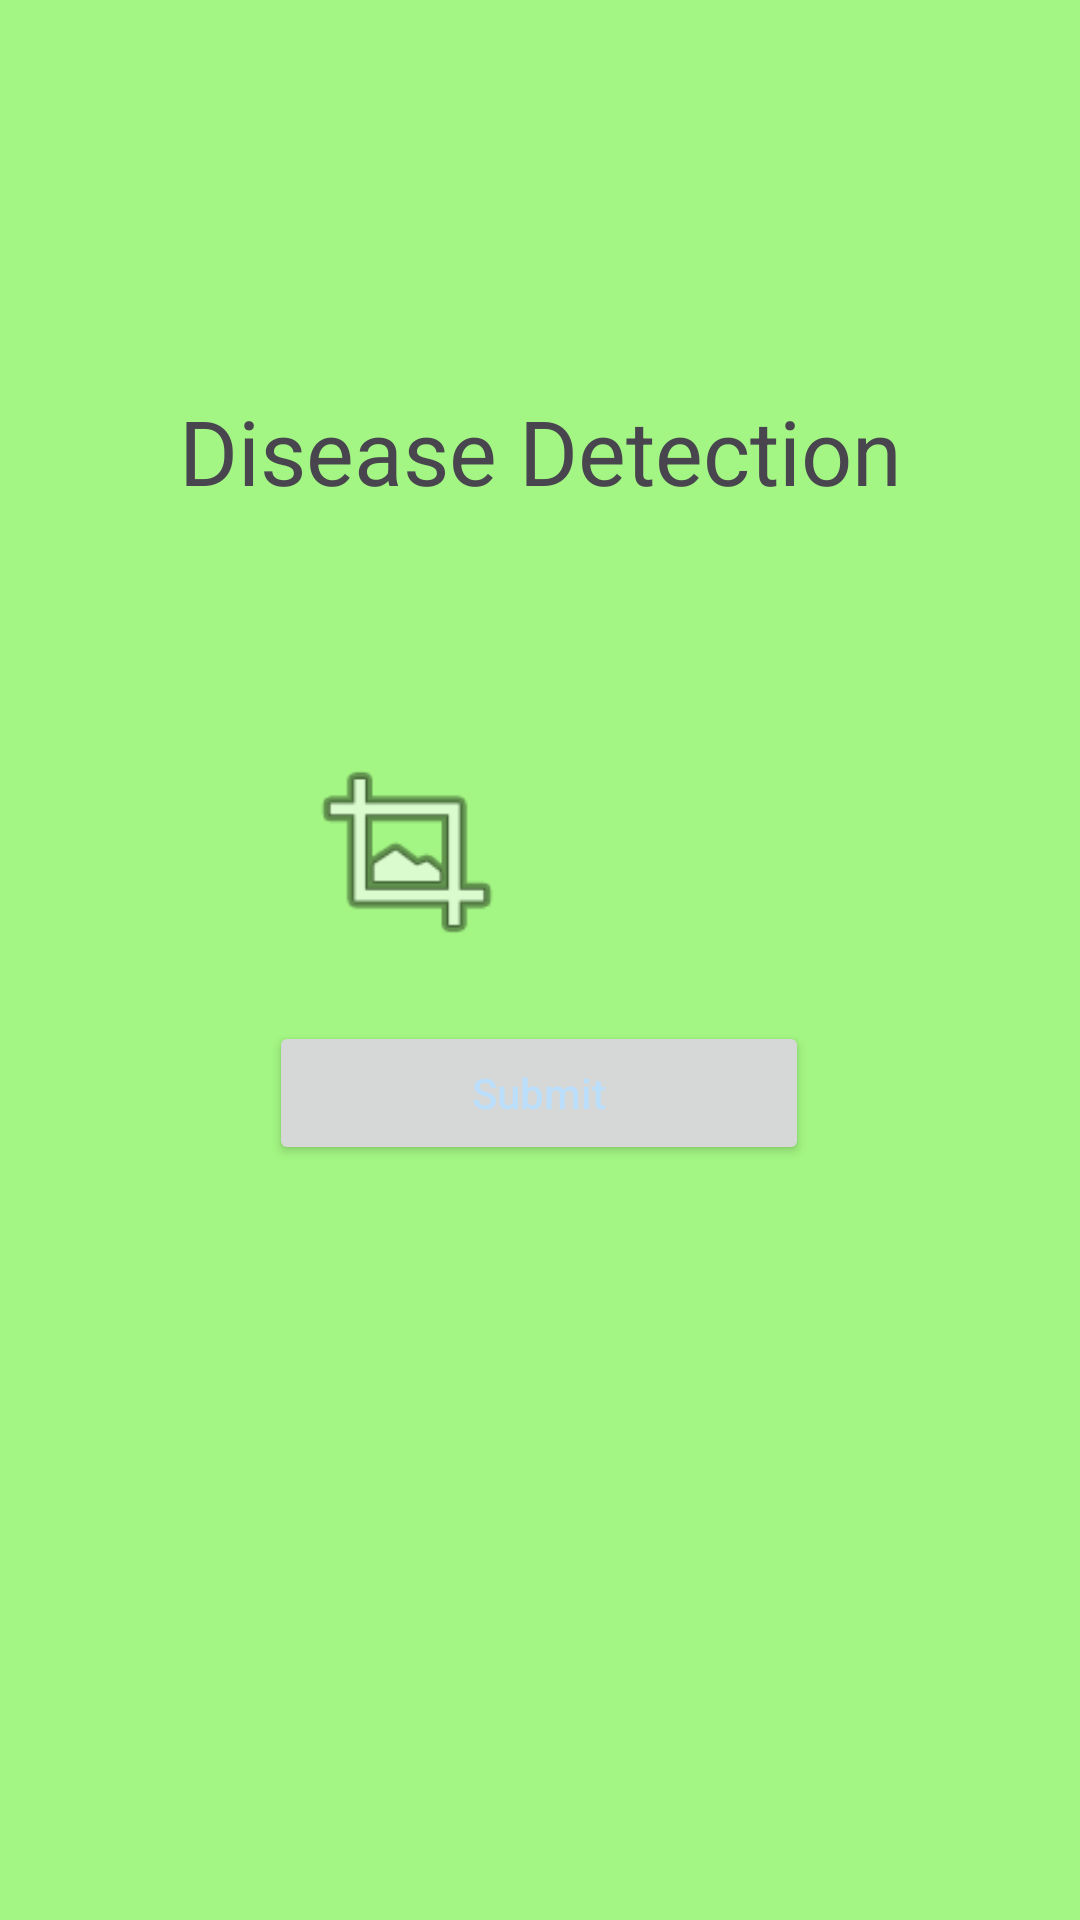

Icons on this 1080x1920 Android screen, each with the point to tap as (x=x, y=y):
crop: (x=407, y=852)
